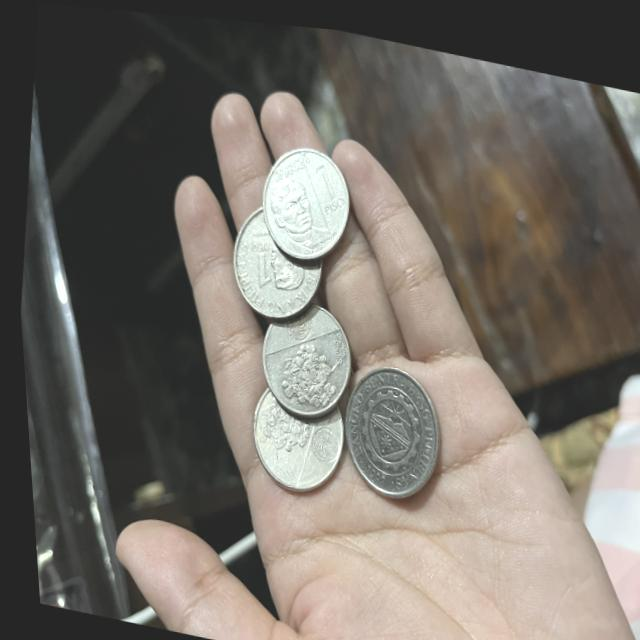1_New_Back: (269, 333, 347, 415), (242, 391, 309, 461)
1_New_Front: (304, 135, 356, 232)
1_Old_Back: (330, 359, 435, 497)
1_Old_Front: (236, 224, 276, 290)
